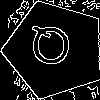Q: (30, 24, 72, 73)
